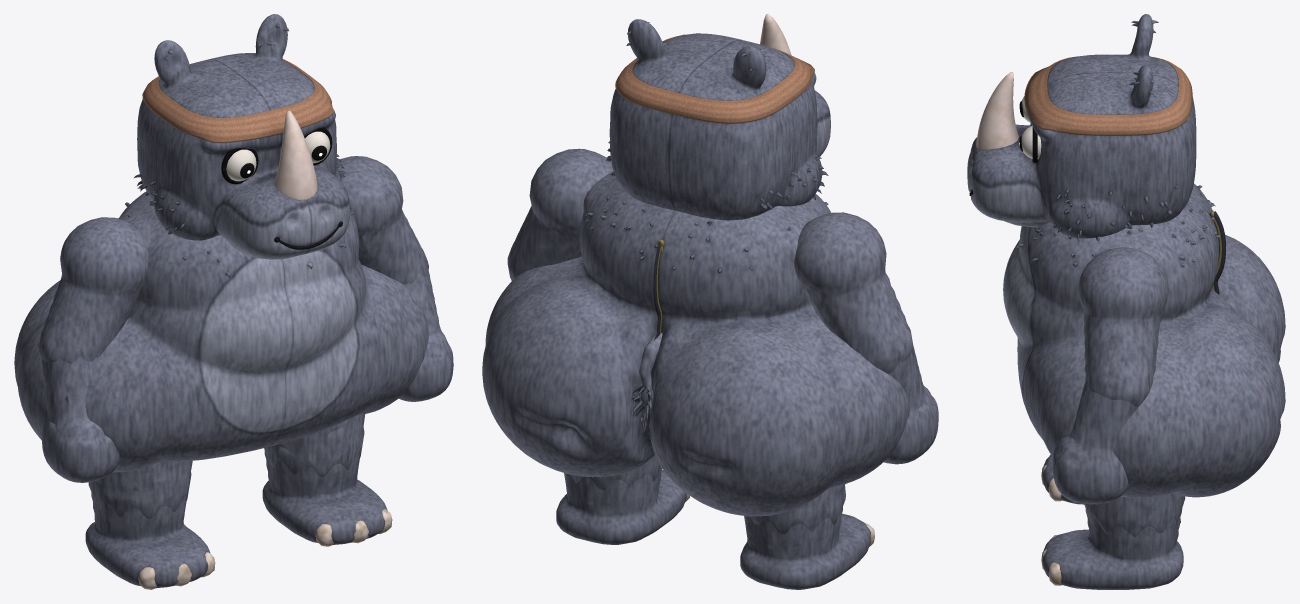
File: rhino_0.glb
3 views of the same model, side by side, from view 1: azimuth 30°, elevation 25°; view 2: azimuth 150°, elevation 25°; view 3: azimuth 270°, elevation 25° (orthographic). The views are drawn at different scales.
Parts seen in each view (by area): view 1: body, head, arm_R, shin_R, shin_L, arm_L, forearm_R, leg_R, leg_L, forearm_L, eye_R, eye_L; view 2: body, head, arm_R, arm_L, shin_R, shin_L, forearm_R, leg_R, sway_1, leg_L; view 3: body, head, arm_L, shin_L, forearm_L, leg_L, shin_R, eye_L.
Boxes of the visible parts, left/top/right/bottom form: body: left=14, top=191, right=429, bottom=472; head: left=134, top=14, right=349, bottom=259; arm_R: left=38, top=217, right=148, bottom=363; shin_R: left=85, top=492, right=215, bottom=589; shin_L: left=262, top=450, right=392, bottom=546; arm_L: left=336, top=156, right=428, bottom=284; forearm_R: left=41, top=356, right=119, bottom=482; leg_R: left=88, top=460, right=192, bottom=518; leg_L: left=264, top=414, right=365, bottom=476; forearm_L: left=399, top=271, right=453, bottom=401; eye_R: left=222, top=149, right=256, bottom=181; eye_L: left=305, top=131, right=330, bottom=163; body: left=482, top=171, right=909, bottom=516; head: left=605, top=14, right=830, bottom=220; arm_R: left=794, top=212, right=913, bottom=373; arm_L: left=507, top=148, right=613, bottom=280; shin_R: left=740, top=506, right=874, bottom=589; shin_L: left=556, top=467, right=689, bottom=544; forearm_R: left=884, top=346, right=938, bottom=464; leg_R: left=744, top=484, right=845, bottom=534; sway_1: left=630, top=333, right=662, bottom=434; leg_L: left=571, top=456, right=660, bottom=489; body: left=1003, top=183, right=1285, bottom=497; head: left=967, top=14, right=1196, bottom=242; arm_L: left=1078, top=247, right=1168, bottom=406; shin_L: left=1041, top=508, right=1183, bottom=589; forearm_L: left=1052, top=380, right=1139, bottom=504; leg_L: left=1084, top=493, right=1185, bottom=537; shin_R: left=1041, top=454, right=1084, bottom=504; eye_L: left=1019, top=125, right=1041, bottom=159.
Bounding box in the file's own units: 2.14 × 2.62 × 1.53.
2 materials, 1 textured.
